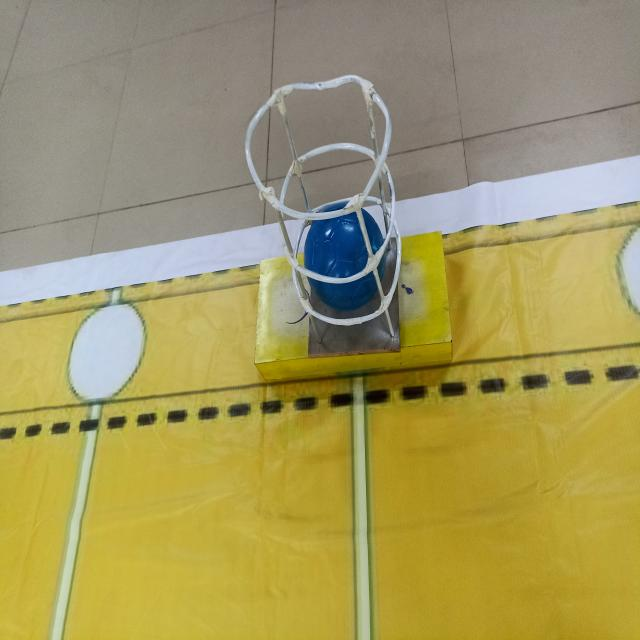blue_ball: (302, 202, 389, 312)
silo: (234, 67, 459, 354)
